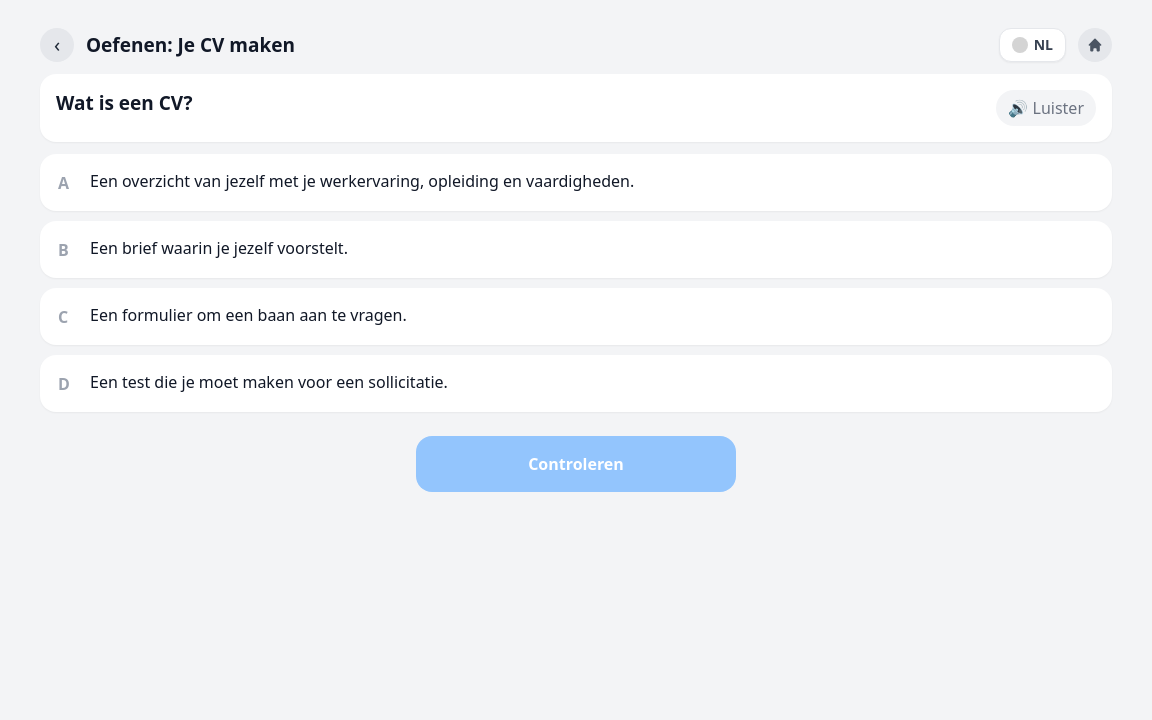
it: closing popup hides it
Click the text "Een overzicht van jezelf".
click(362, 181)  # box [90,170,634,192]
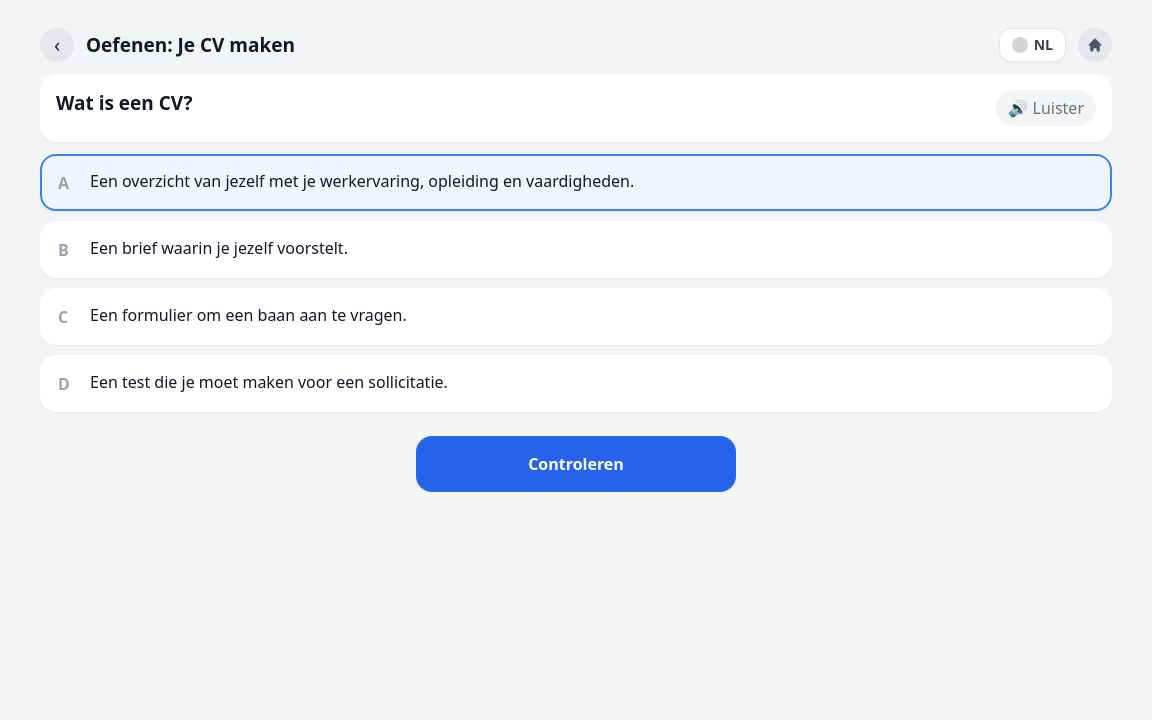
Click the button "Controleren".
click(576, 464)  # box [416,436,736,492]
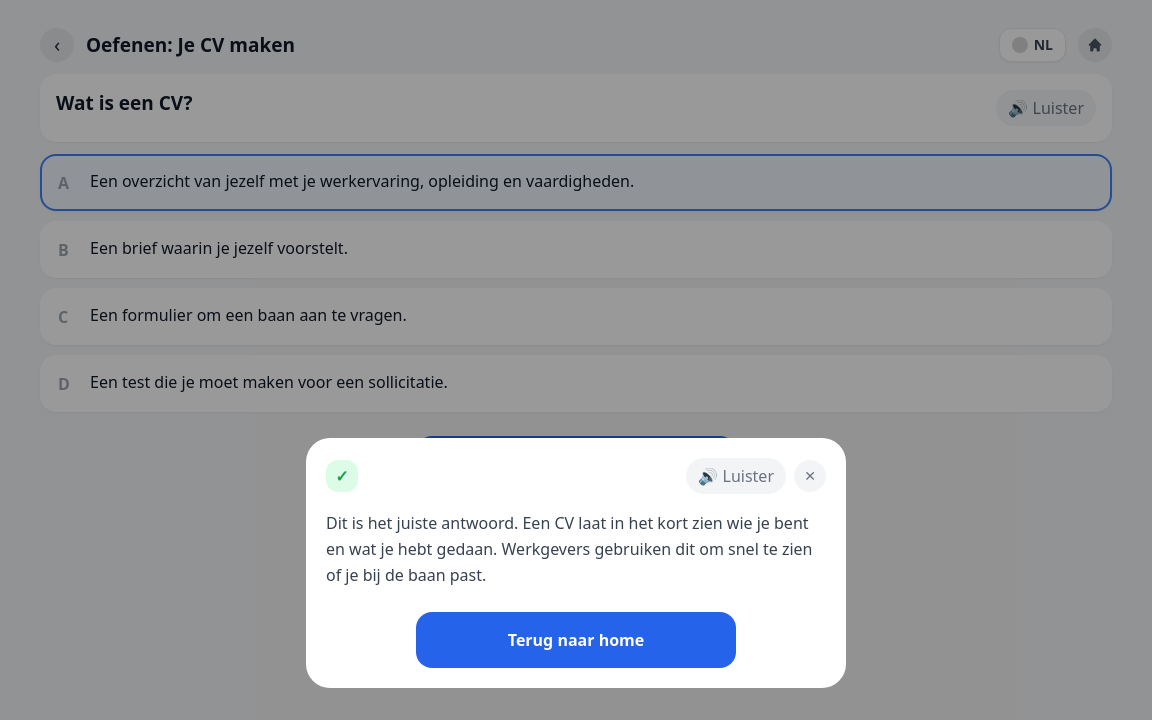
Click the button "✕".
click(810, 476)  # box [794,460,826,492]
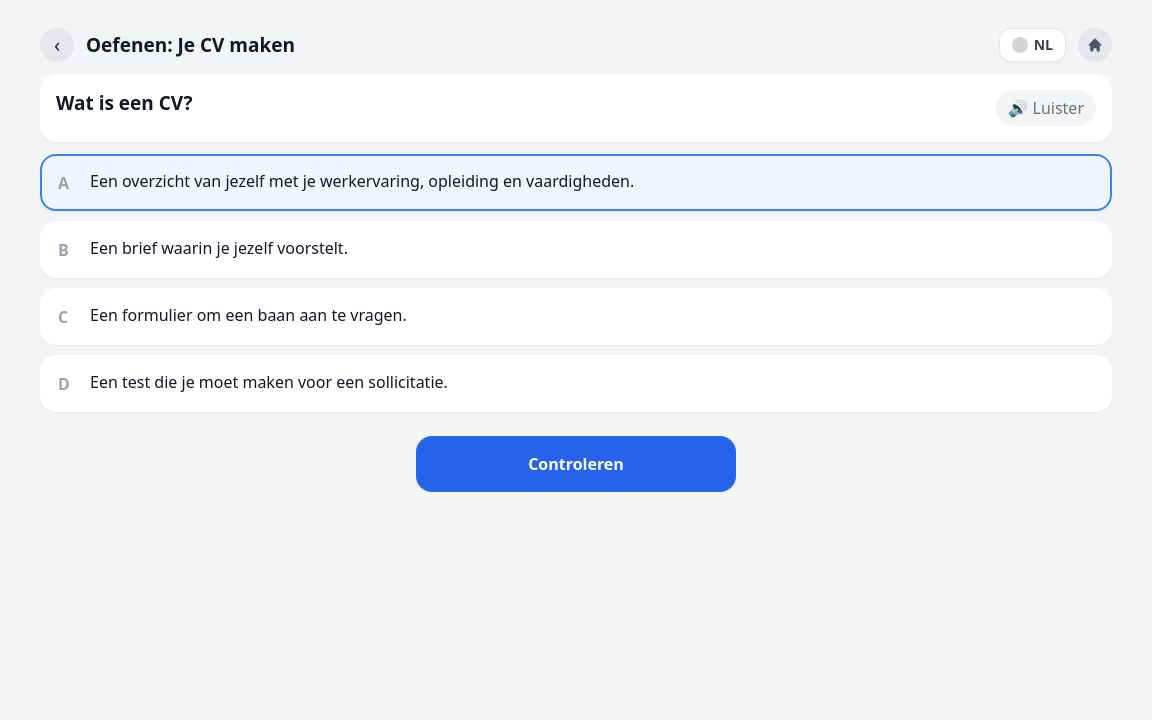
Result: the button "Terug naar home" is gone
